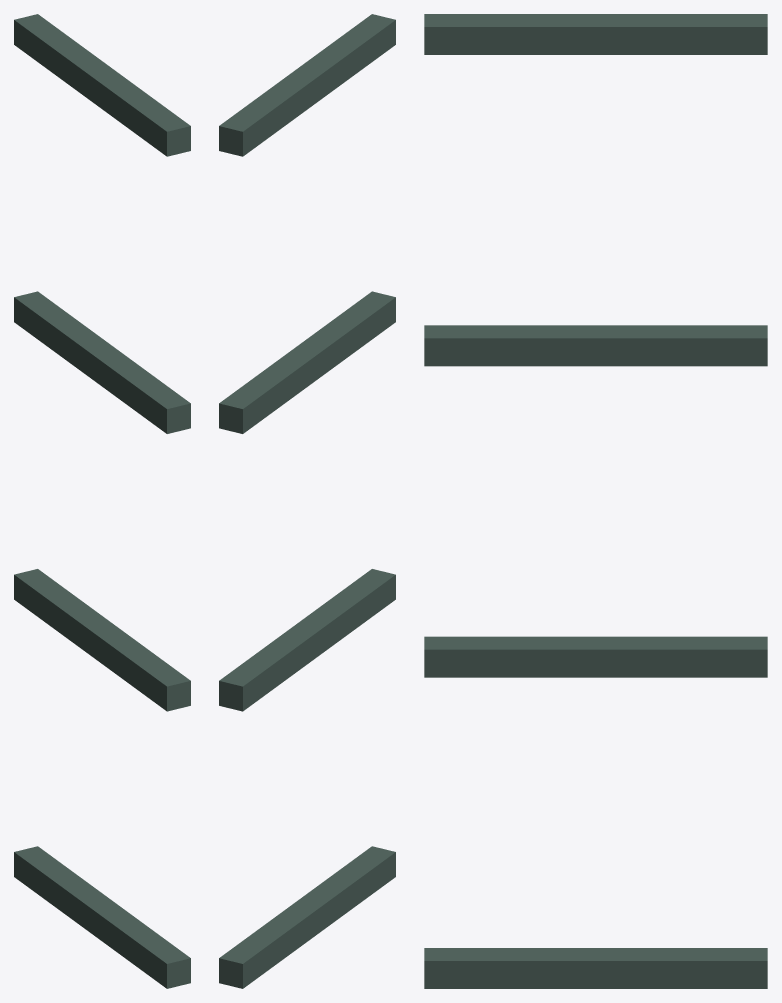
Rendered from Solid_RodZ_Y4.gltf.
3 views of the same model, side by side, from view 1: azimuth 30°, elevation 25°; view 2: azimuth 150°, elevation 25°; view 3: azimuth 270°, elevation 25° (orthographic). The views are drawn at different scales.
Visible parts, largest first — view 1: Solid_RodZ_Y4_baked; view 2: Solid_RodZ_Y4_baked; view 3: Solid_RodZ_Y4_baked.
Boxes of the visible parts, left/top/right/bottom form: Solid_RodZ_Y4_baked: left=14, top=14, right=190, bottom=988; Solid_RodZ_Y4_baked: left=219, top=14, right=395, bottom=988; Solid_RodZ_Y4_baked: left=424, top=14, right=767, bottom=988.
Size of the model in its own units: 0.09 by 3.09 by 1.
